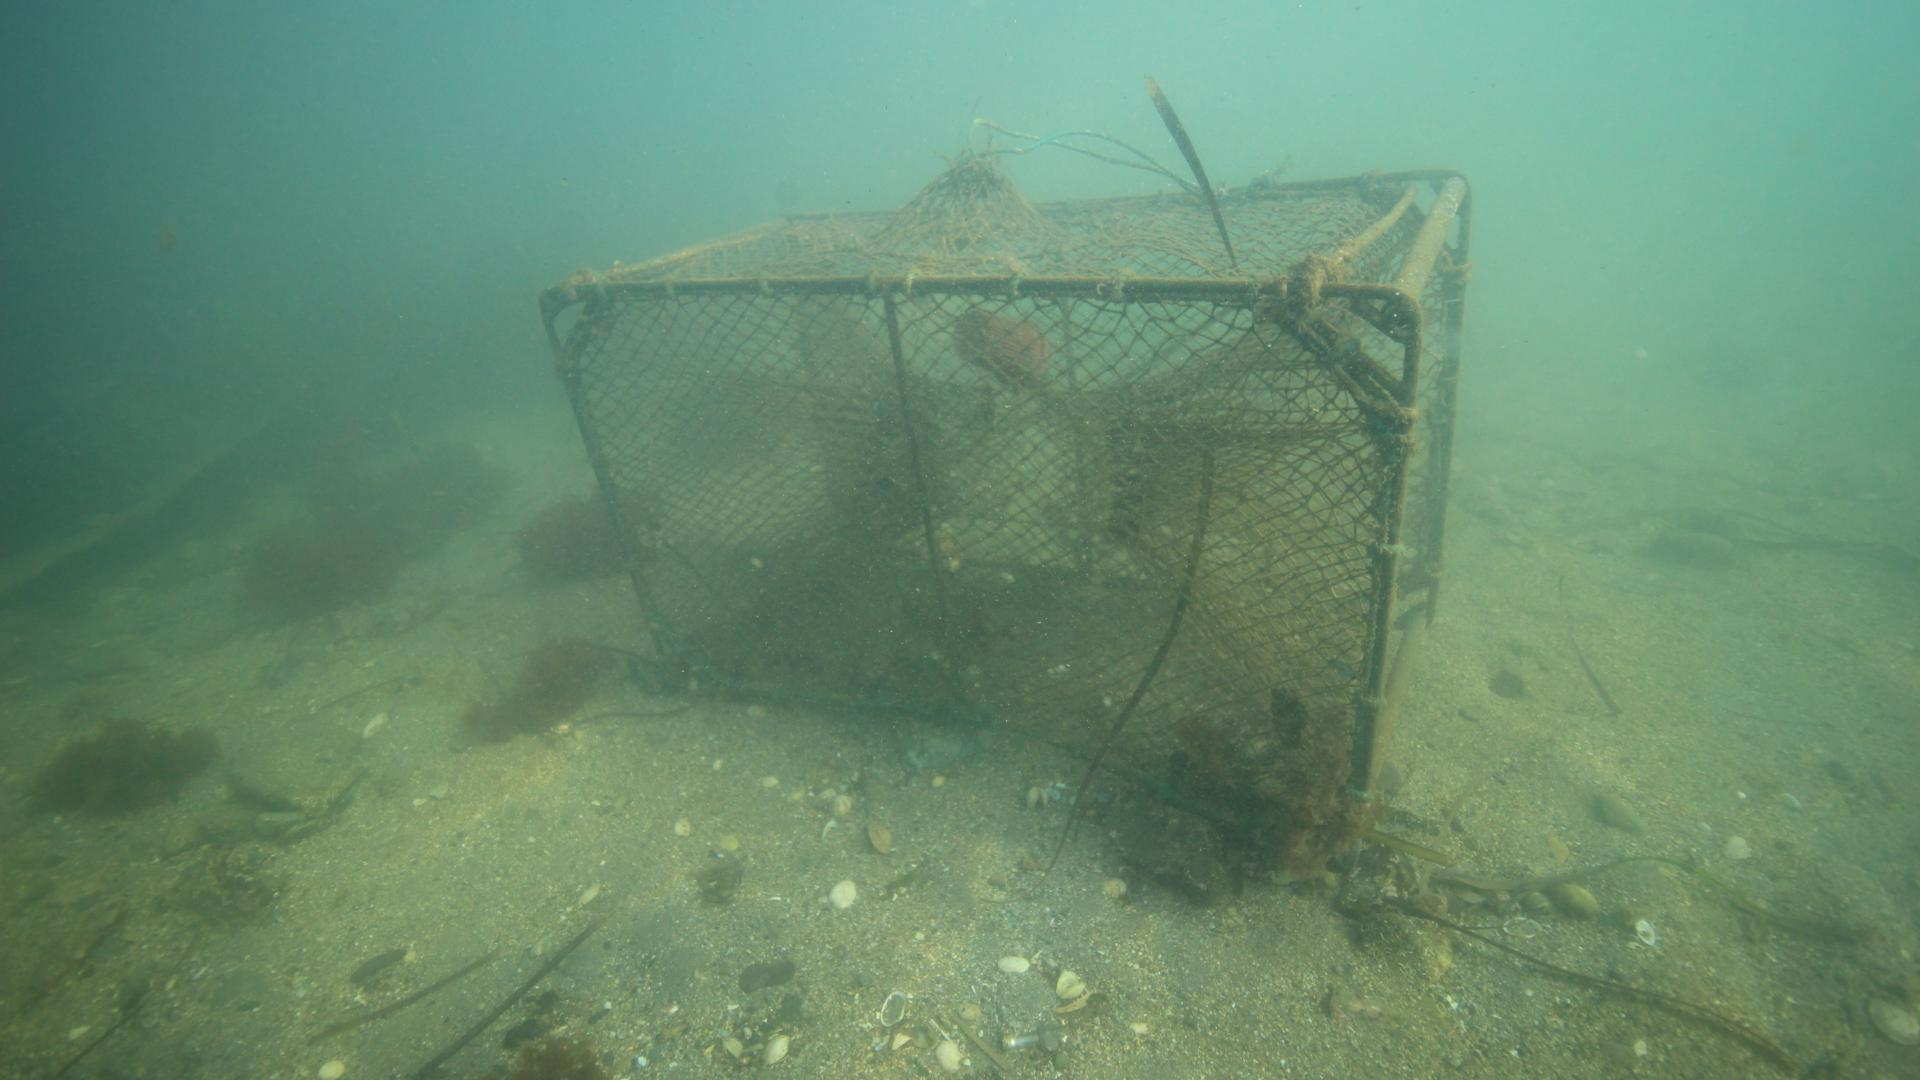rectangular fish trap: (530, 158, 1469, 887)
